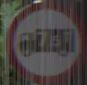Heavy Vehicles: (8, 0, 77, 72)
